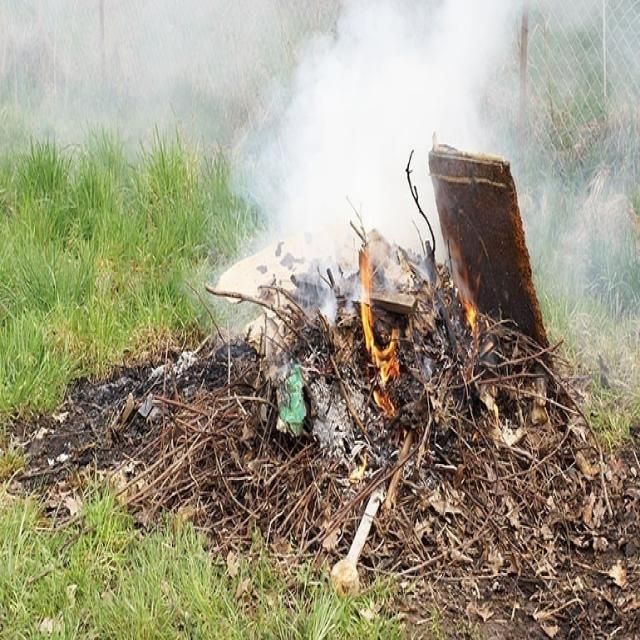Fire: (350, 234, 408, 407), (449, 245, 485, 366)
Smoke: (20, 2, 640, 310)
